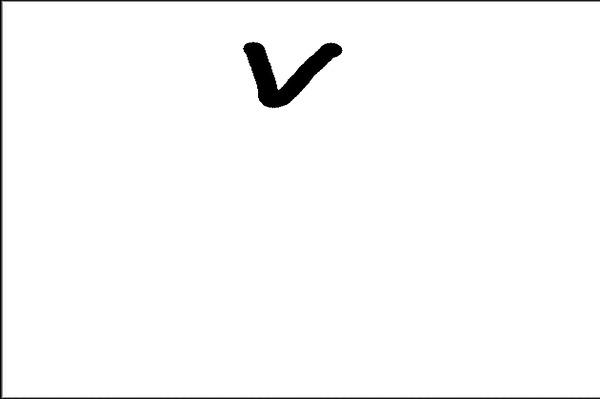V: (233, 33, 348, 115)
